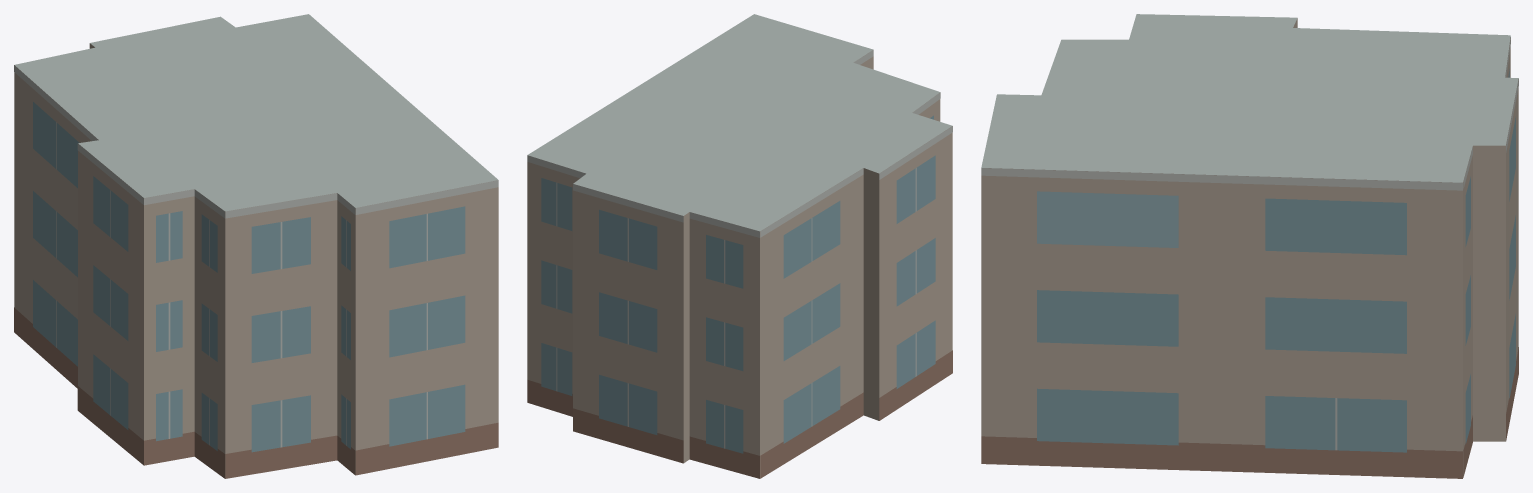
File: survey-upis-32692238.glb
3 views of the same model, side by side, from view 1: azimuth 30°, elevation 25°; view 2: azimuth 150°, elevation 25°; view 3: azimuth 270°, elevation 25° (orthographic). The views are drawn at different scales.
Parts seen in each view (by area): view 1: survey-upis-32692238.tmp; view 2: survey-upis-32692238.tmp; view 3: survey-upis-32692238.tmp.
Boxes of the visible parts, bbox=[...] form: survey-upis-32692238.tmp: bbox=[14, 14, 498, 478]; survey-upis-32692238.tmp: bbox=[527, 14, 952, 478]; survey-upis-32692238.tmp: bbox=[981, 14, 1518, 478].
Bounding box in the file's own units: 11.19 × 9.15 × 15.06.
